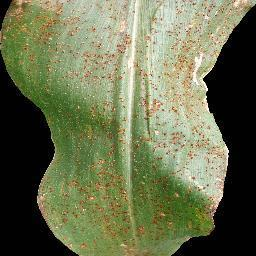Corn_Common_Rust: (0, 0, 138, 256), (138, 0, 256, 256)
